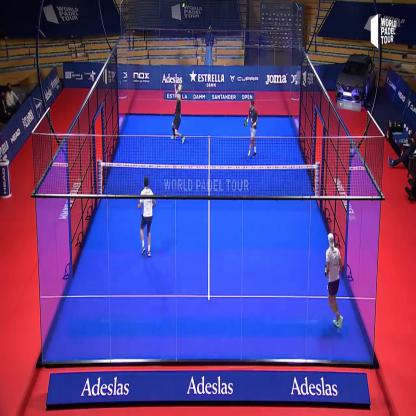ball: (180, 0, 187, 12)
